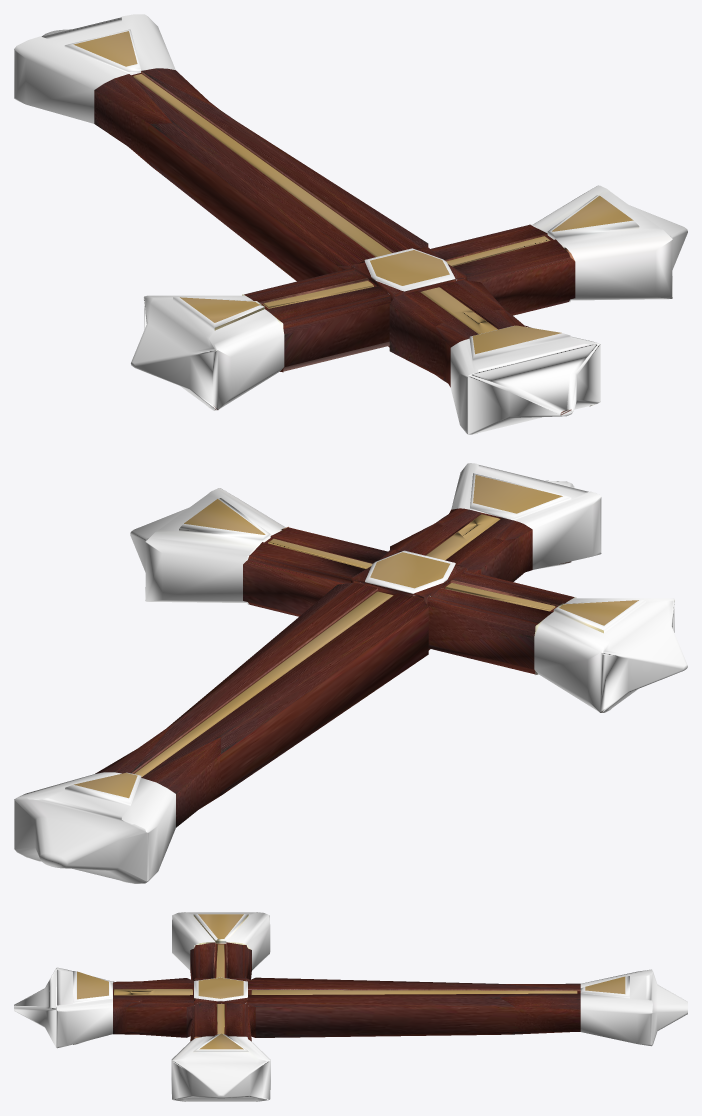
Rendered from crucifix.fbx.
3 views of the same model, one above another, from view 1: azimuth 30°, elevation 25°; view 2: azimuth 150°, elevation 25°; view 3: azimuth 270°, elevation 25° (orthographic). The views are drawn at different scales.
Visible parts, largest first — view 1: Cross; view 2: Cross; view 3: Cross.
Part boxes in pixels (left/top/right/bottom): Cross: left=14, top=14, right=687, bottom=434; Cross: left=14, top=463, right=687, bottom=883; Cross: left=14, top=912, right=687, bottom=1101.
Size of the model in its own units: 1226 by 164 by 1972.
